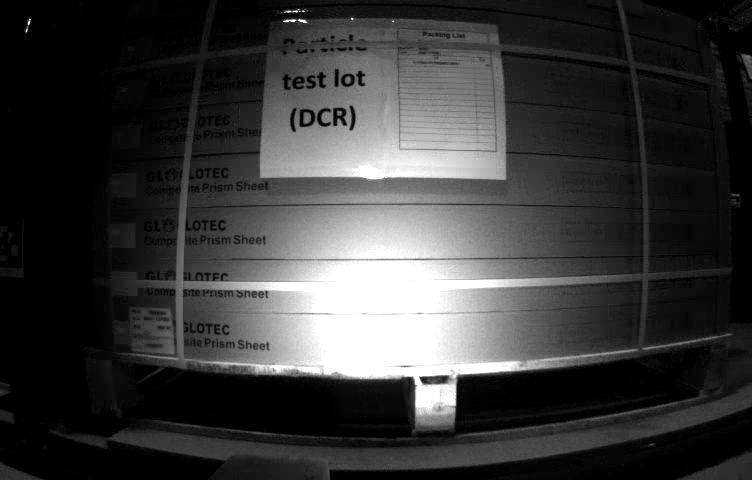True Barcode: (128, 302, 176, 359)
